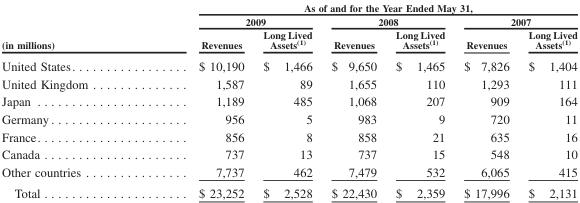table: (1, 1, 576, 200)
table column: (1, 1, 143, 200), (143, 1, 253, 200), (253, 1, 321, 200), (385, 1, 453, 200), (453, 1, 518, 200), (321, 1, 385, 200), (518, 1, 576, 200)
table column header: (1, 1, 576, 54)
table row: (1, 27, 576, 54), (1, 54, 576, 74), (1, 162, 576, 182), (1, 74, 576, 92), (1, 109, 576, 127), (1, 127, 576, 145), (1, 182, 576, 200), (1, 92, 576, 109), (1, 145, 576, 162), (1, 13, 576, 27), (1, 1, 576, 13)
table spanning cell: (1, 1, 143, 54), (143, 1, 576, 13), (143, 13, 321, 27), (321, 13, 453, 27), (453, 13, 576, 27)
